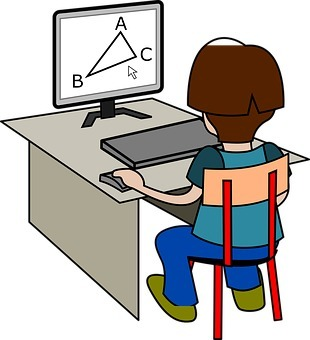chair: (170, 150, 293, 333)
person: (96, 32, 294, 322)
tvmonitor: (38, 1, 172, 121)
